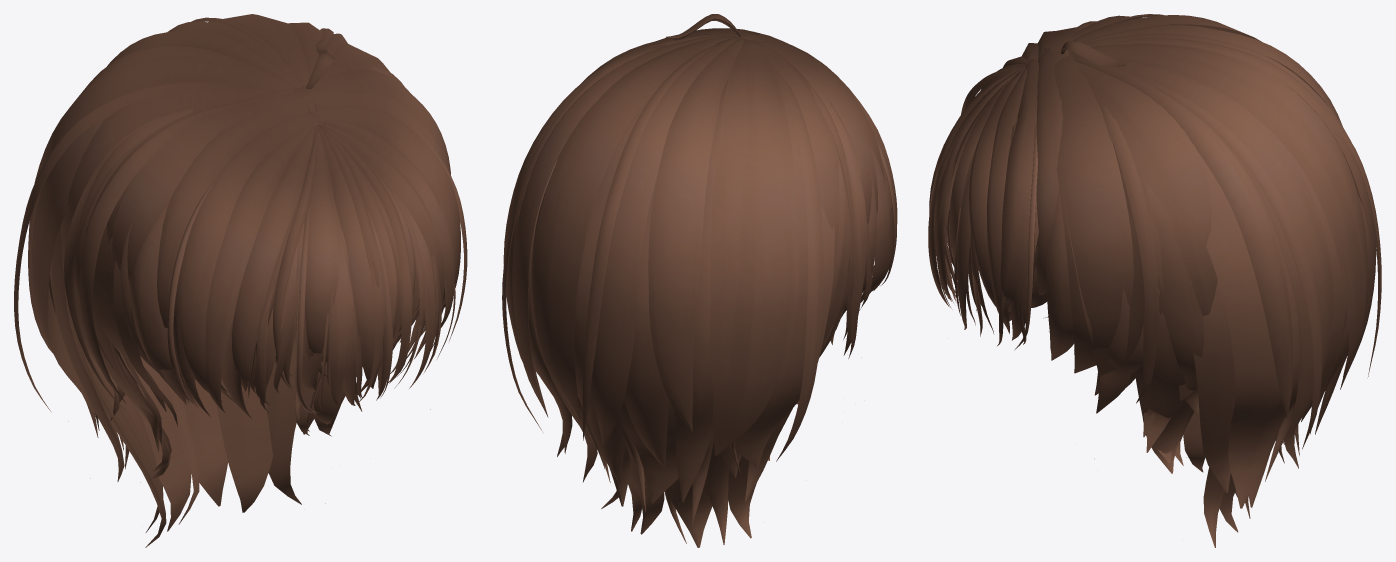
The model's file is vroid_hair_c7v3t.glb.
3 renders of one model, left to right at view 1: azimuth 30°, elevation 25°; view 2: azimuth 150°, elevation 25°; view 3: azimuth 270°, elevation 25°, orthographic. The views are drawn at different scales.
Parts seen in each view (by area): view 1: hair; view 2: hair; view 3: hair.
Part boxes in pixels (bbox=[...]): hair: bbox=[14, 14, 467, 547]; hair: bbox=[502, 14, 897, 547]; hair: bbox=[928, 14, 1381, 547].
Size of the model in its own units: 0.1957 by 0.2737 by 0.2306.
Materials: 1 (1 with a texture image).
